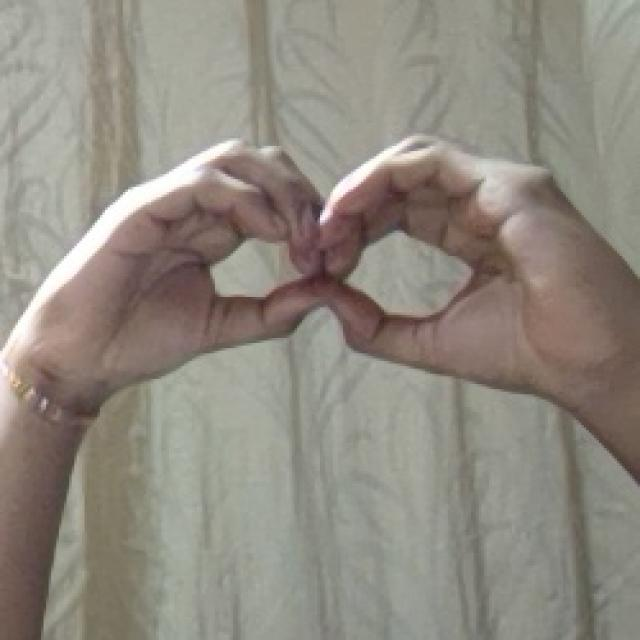Alphabet-B: (31, 135, 615, 428)
